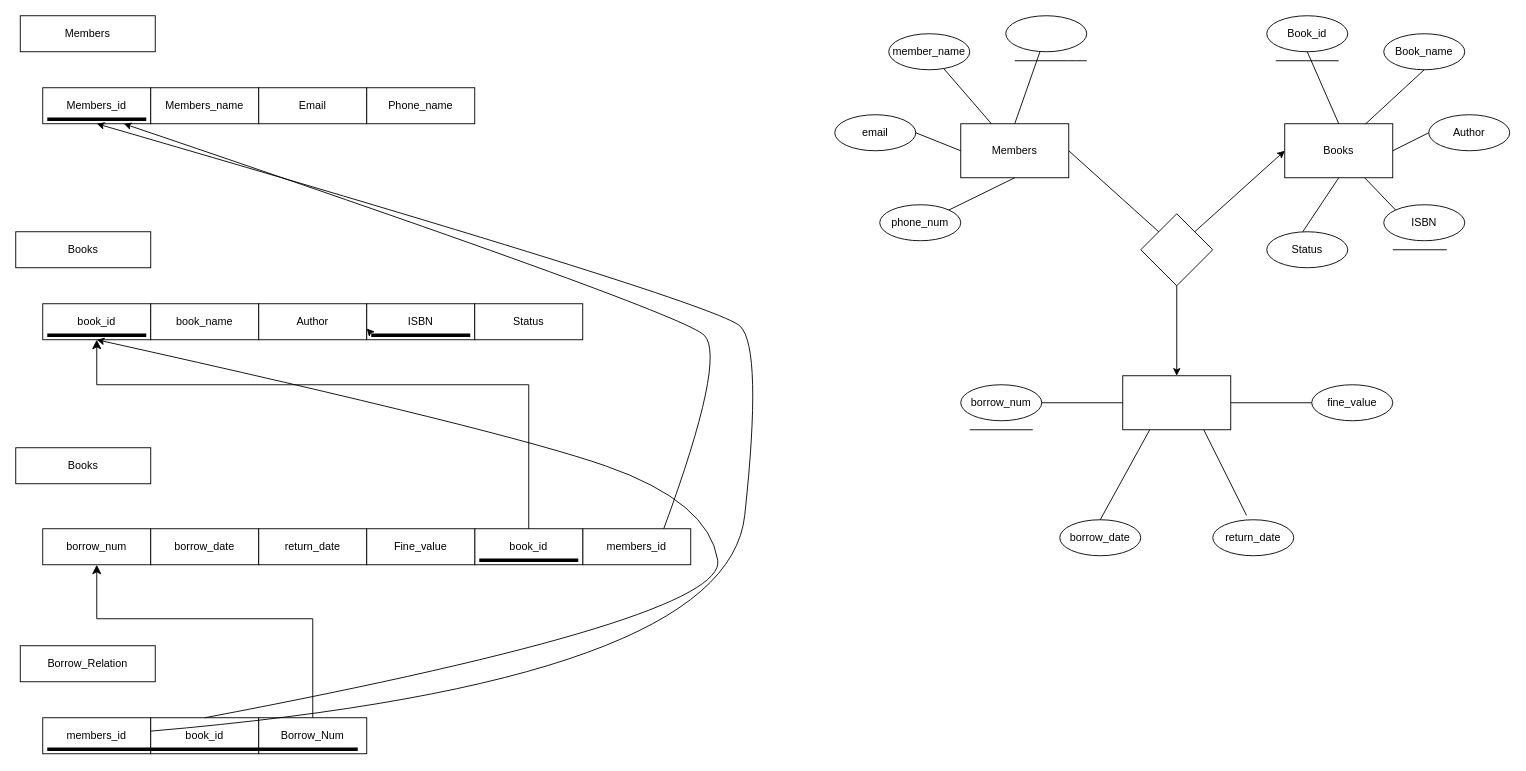
This 1526x771 diagram has some shape labels left out. Each missing label, with the box of its shape:
Borrow: (1140, 213, 1213, 286)
Borrow Record: (1122, 375, 1231, 430)
member_id: (1005, 15, 1087, 52)
